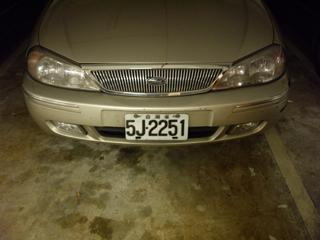plate: (125, 112, 191, 142)
